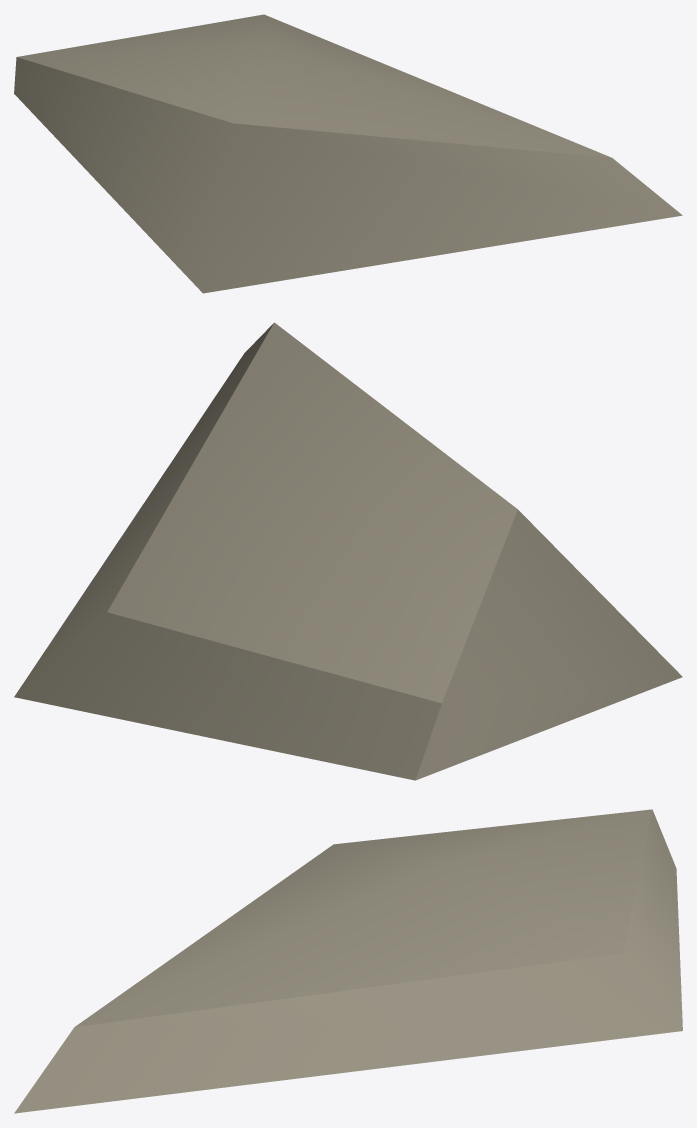
File: Stones_1k.fbx
3 renders of one model, top to bottom at view 1: azimuth 30°, elevation 25°; view 2: azimuth 150°, elevation 25°; view 3: azimuth 270°, elevation 25°, orthographic. The views are drawn at different scales.
Parts seen in each view (by area): view 1: Stones_1k; view 2: Stones_1k; view 3: Stones_1k.
Part boxes in pixels (x1,y1,x2,y2): Stones_1k: [14, 14, 682, 293]; Stones_1k: [14, 322, 682, 780]; Stones_1k: [14, 809, 682, 1113].
Size of the model in its own units: 29.46 by 10.43 by 35.83.
